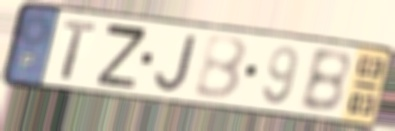9: (260, 43, 300, 108)
B: (192, 34, 251, 103), (296, 48, 353, 116)
J: (152, 32, 201, 95)
T: (59, 17, 99, 82)
Z: (94, 21, 150, 92)
